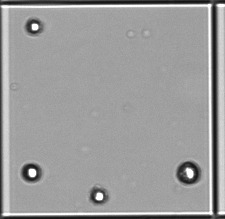Living Cell: (176, 161, 201, 186), (19, 162, 43, 184), (89, 185, 109, 205), (25, 17, 43, 36)
